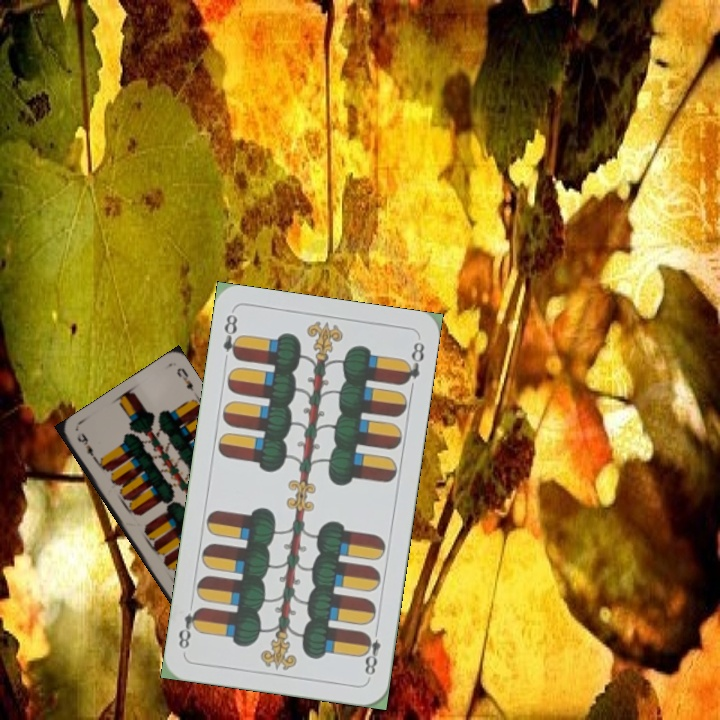E8: (358, 622, 383, 681), (219, 310, 244, 363)
E9: (73, 428, 101, 465)
